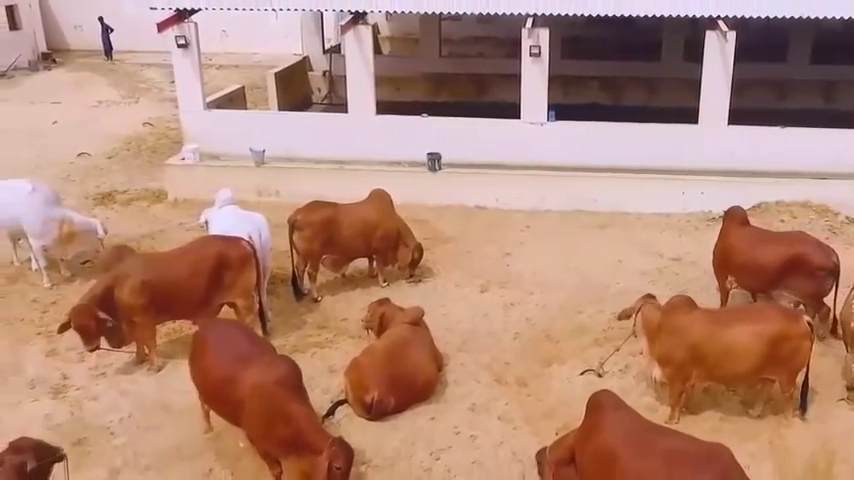bo: (181, 308, 368, 479), (59, 217, 268, 368), (615, 283, 825, 428), (515, 380, 760, 477), (705, 197, 844, 336), (287, 183, 434, 309), (336, 292, 457, 418), (5, 172, 108, 290), (194, 187, 277, 315), (6, 418, 68, 476)
